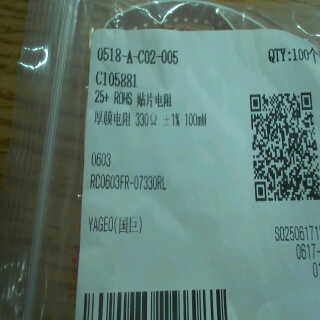330R: (134, 111, 160, 130)
